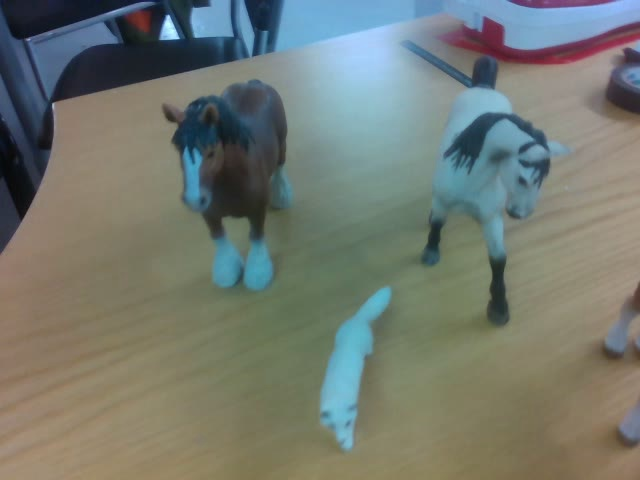toy: (421, 54, 571, 325), (161, 78, 289, 291), (319, 286, 392, 451)
